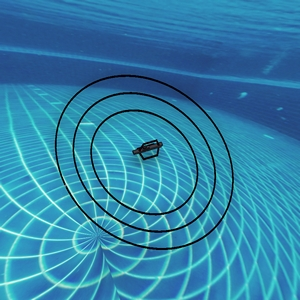circle: (35, 48, 244, 276)
submarine: (138, 139, 165, 163)
